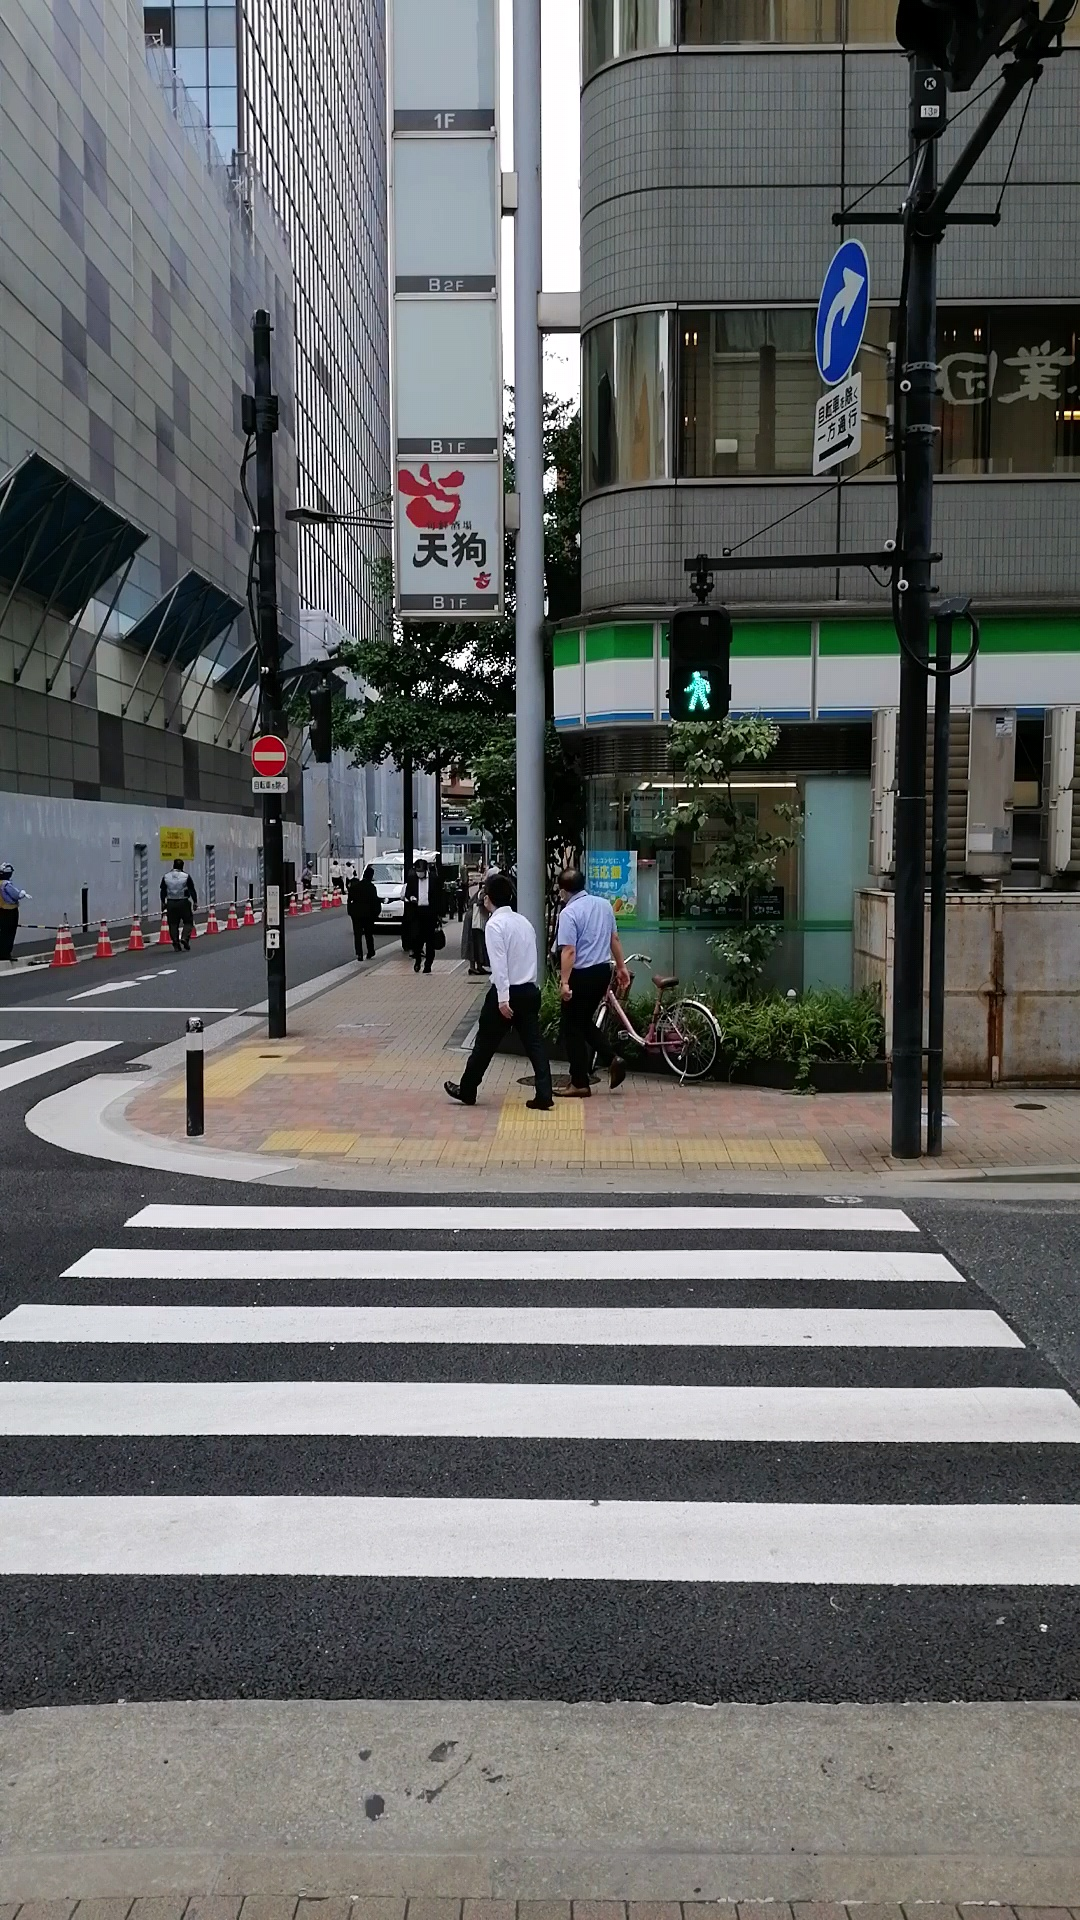green: (665, 609, 733, 720)
